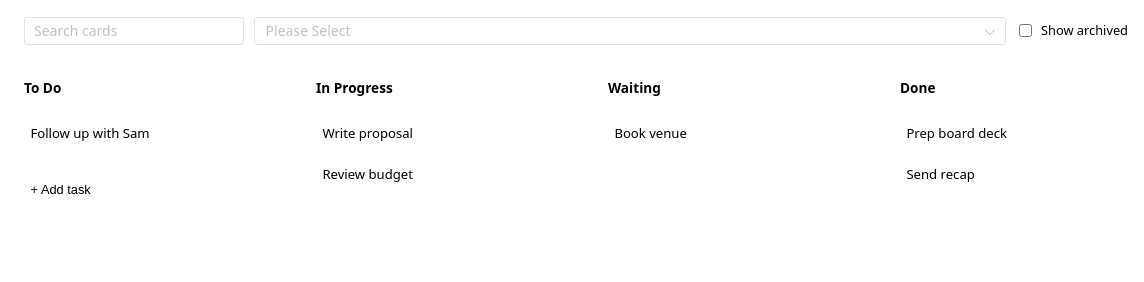
it: Board filtering - US1: find a card by typing › searching "budget" matches note text and title, leaving the other three lanes empty (scenario 3)
Expected: the heading "To Do" is shown, [24,78,61,97]
In the field with test id "board-search-input": [134, 31] box [34,17,234,45], type "budget"
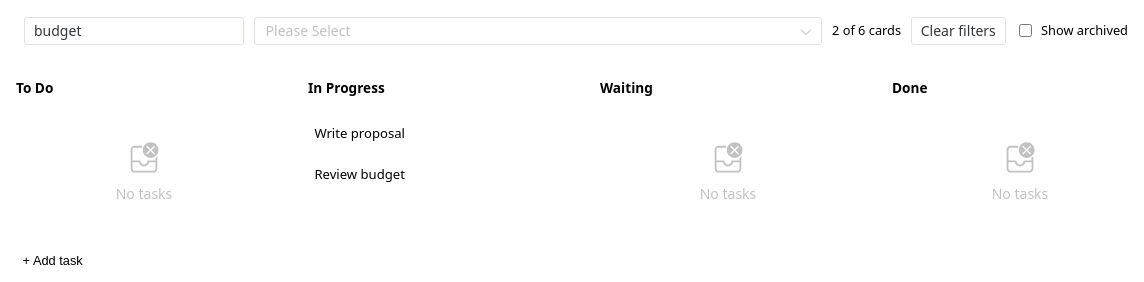
Now the element with test id "lane-empty" below "To Do" is shown, box [116,141,172,203]
Now the element with test id "lane-empty" below "Waiting" is shown, box [700,141,756,203]
Now the element with test id "lane-empty" below "Done" is shown, box [992,141,1048,203]
